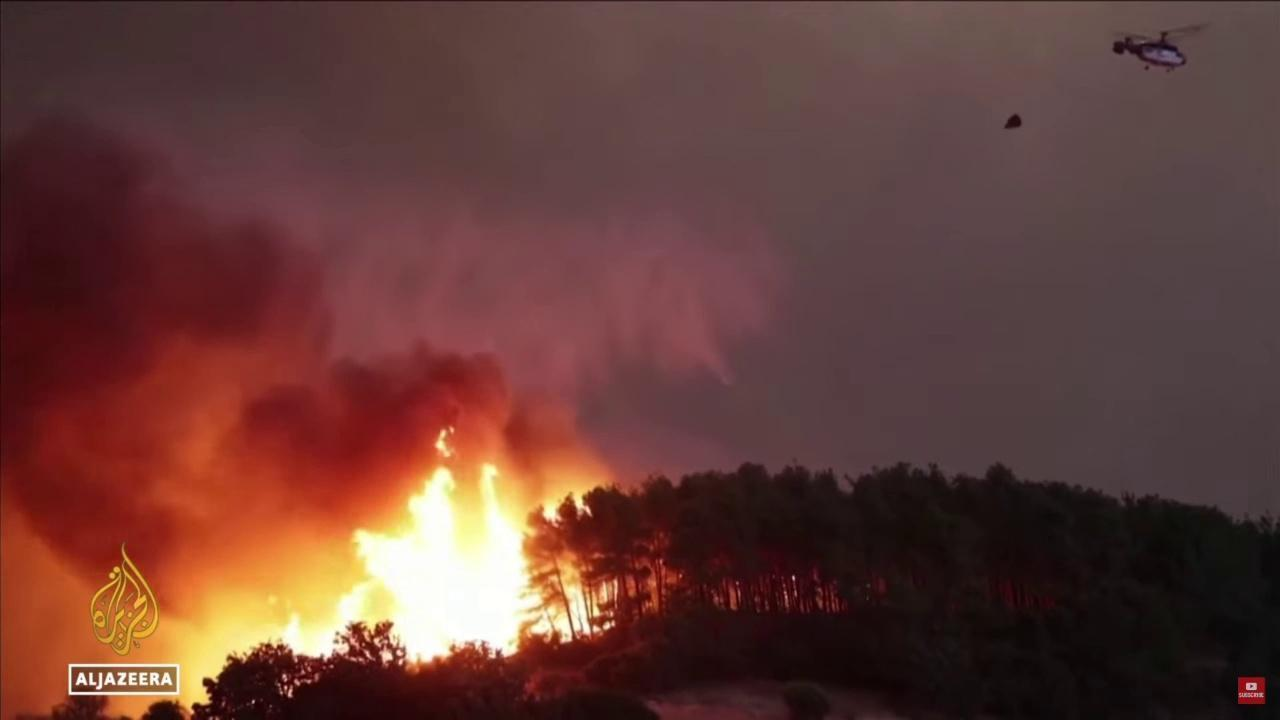fire: (269, 419, 617, 666)
smoke: (2, 110, 753, 719)
